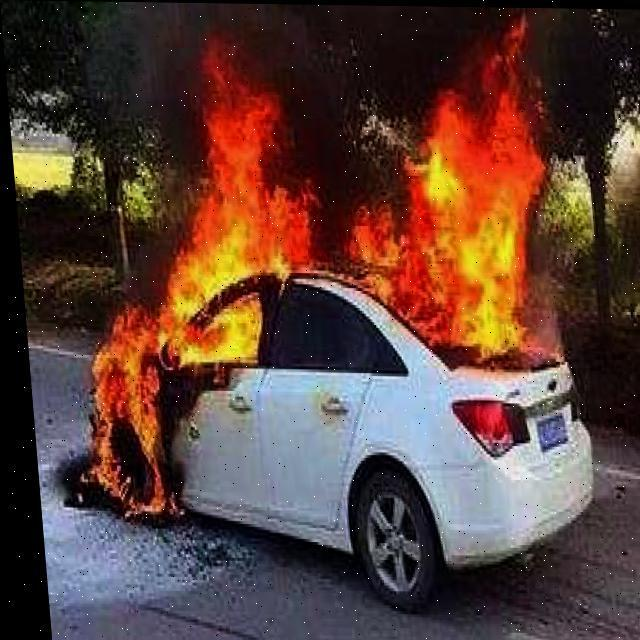Fire: (60, 24, 567, 538)
